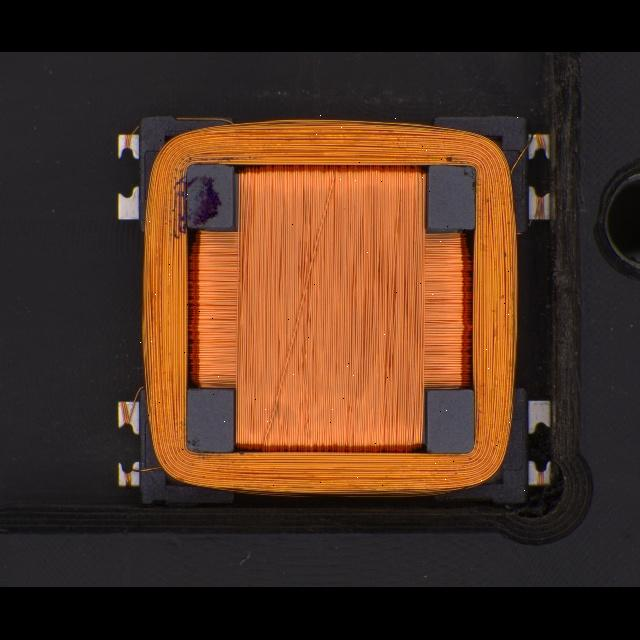Winding_Z: (131, 115, 525, 502)
